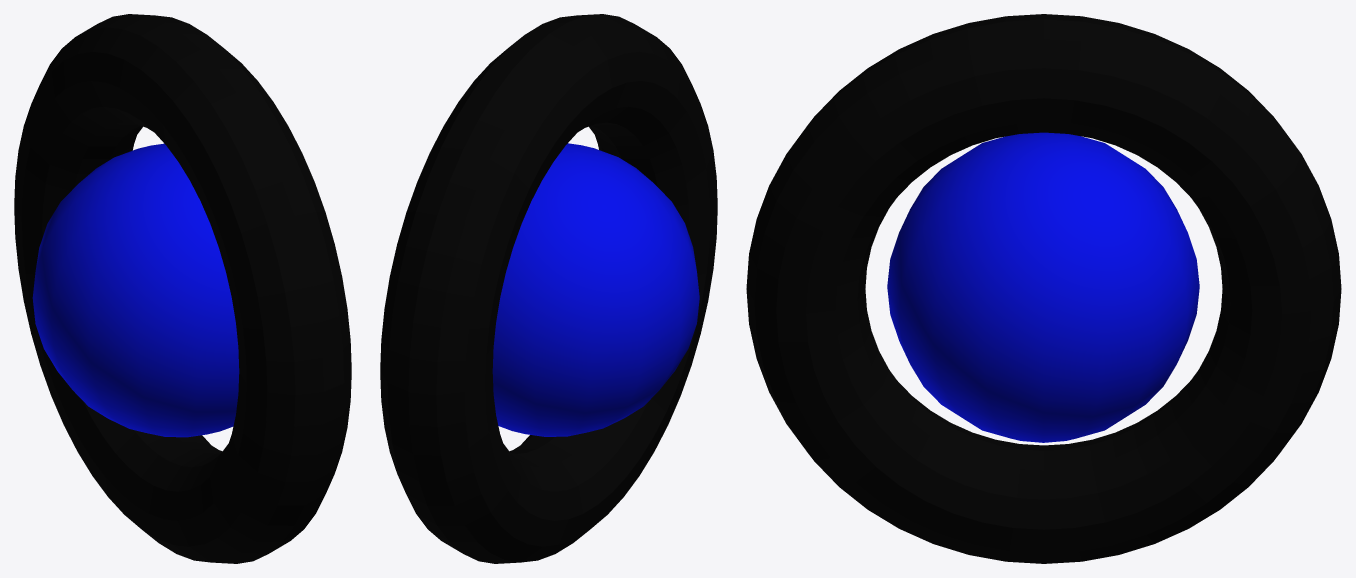
File: CasillaMarcada.glb
3 renders of one model, left to right at view 1: azimuth 30°, elevation 25°; view 2: azimuth 150°, elevation 25°; view 3: azimuth 270°, elevation 25°, orthographic. The views are drawn at different scales.
Parts seen in each view (by area): view 1: Torus, Sphere.001; view 2: Torus, Sphere.001; view 3: Torus, Sphere.001.
Boxes of the visible parts, left/top/right/bottom form: Torus: left=14, top=14, right=351, bottom=563; Sphere.001: left=32, top=143, right=239, bottom=437; Torus: left=380, top=14, right=717, bottom=563; Sphere.001: left=492, top=143, right=699, bottom=436; Torus: left=746, top=14, right=1341, bottom=563; Sphere.001: left=887, top=132, right=1199, bottom=442.
Size of the model in its own units: 1.31 by 2.5 by 2.5.
